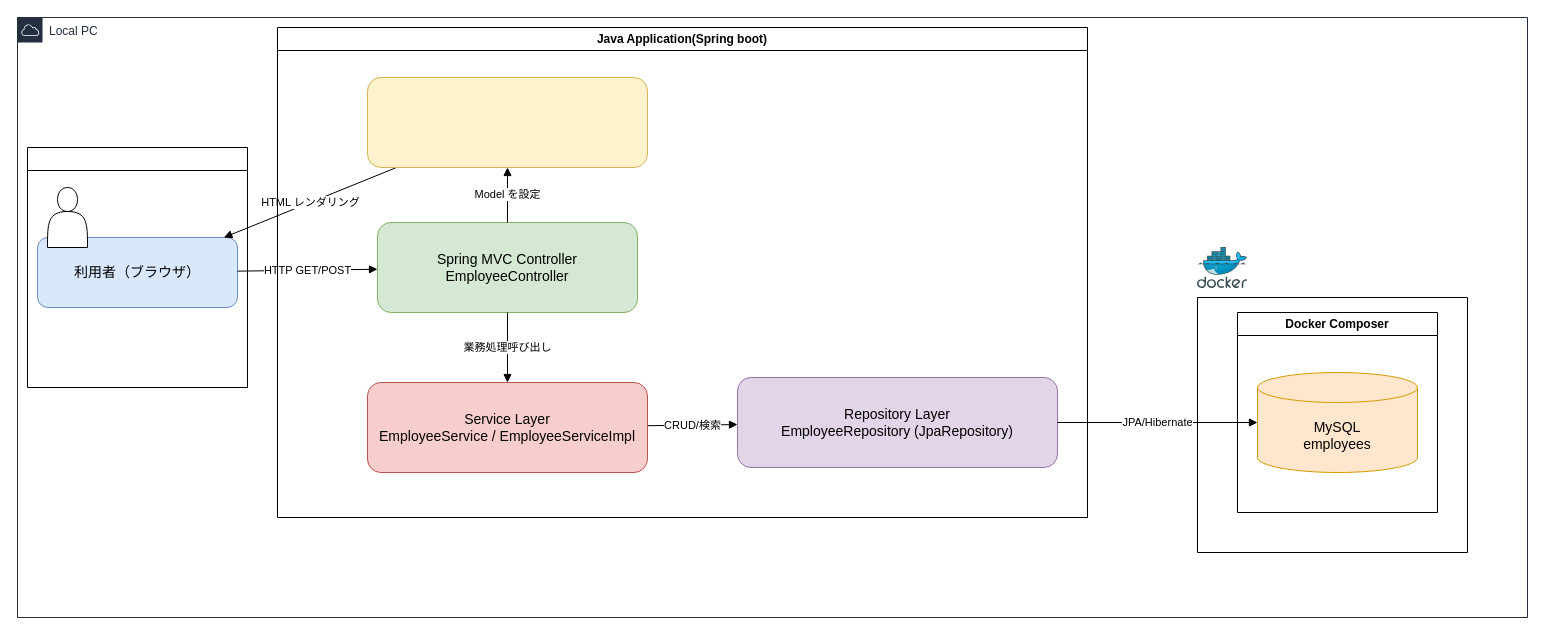
The diagram is 1545 pixels wide and 635 high, and some of its shapes have lost their labels. The shapes that lost their labels are listed below. From the top down, each one's centre as x and y in pixels, then its label:
At (507,122): "Thymeleaf Templates index/new/update".
At (137,267): "User Browser(Chrome)".
